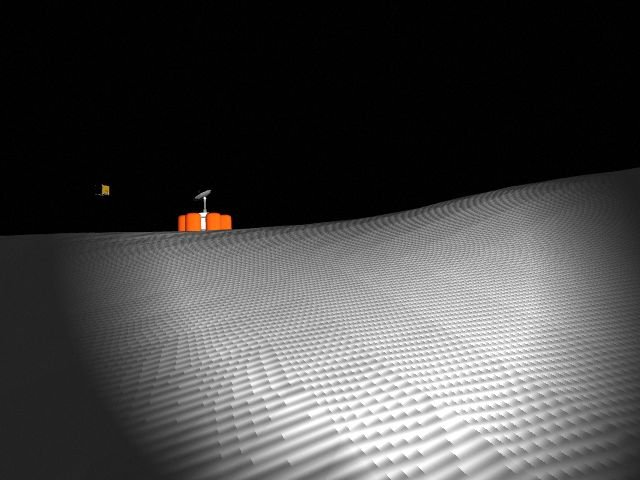cubesat: (93, 180, 112, 198)
